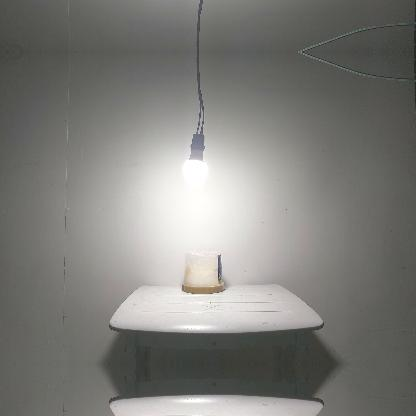Lady-s-Choice: (182, 250, 226, 294)
